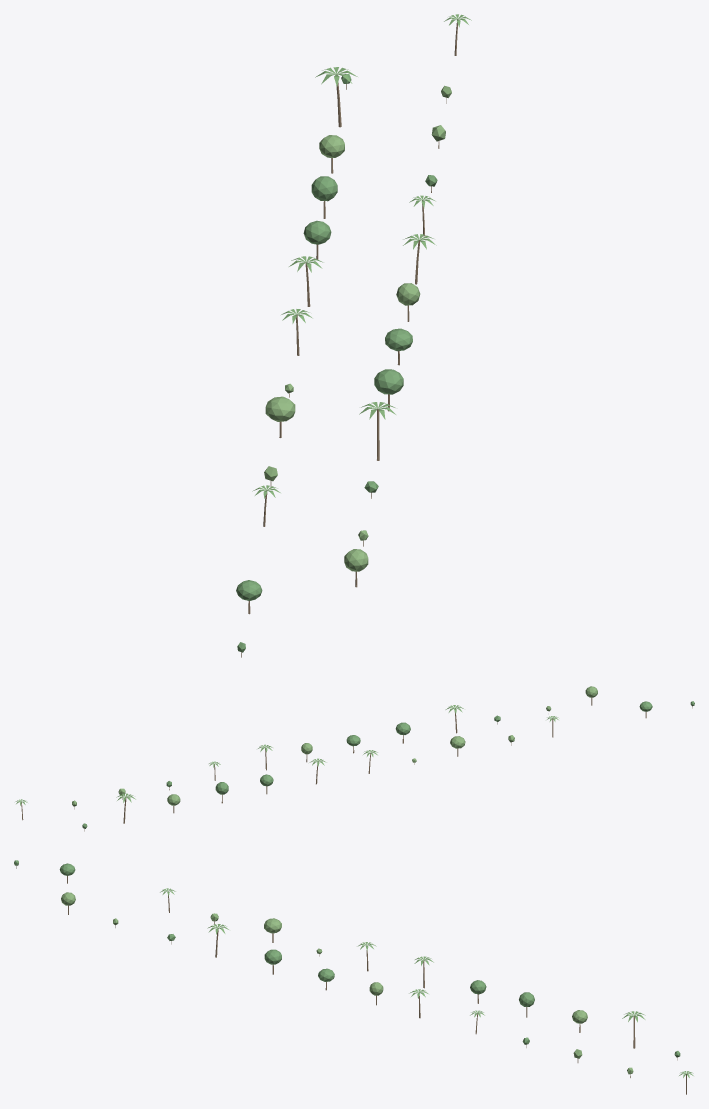
File: nature_-3_-8.glb
The picture shows the model from 3 angles, top to bottom: view 1: azimuth 30°, elevation 25°; view 2: azimuth 150°, elevation 25°; view 3: azimuth 270°, elevation 25°; orthographic projection. The views are drawn at different scales.
Visible parts, largest first — view 1: foliage_a, foliage_b, palm_leaf, trunk; view 2: foliage_a, foliage_b, palm_leaf, trunk; view 3: foliage_a, foliage_b, palm_leaf, trunk.
Part boxes in pixels (x1,y1,x2,y2): foliage_a: [236, 74, 437, 652]; foliage_b: [264, 85, 451, 571]; palm_leaf: [252, 14, 471, 498]; trunk: [241, 19, 457, 657]; foliage_a: [82, 701, 694, 828]; foliage_b: [72, 686, 597, 806]; palm_leaf: [15, 705, 558, 805]; trunk: [21, 697, 692, 831]; foliage_a: [14, 860, 680, 1057]; foliage_b: [61, 892, 633, 1074]; palm_leaf: [160, 888, 693, 1077]; trunk: [16, 866, 686, 1094].
Bounding box in the file's own units: 131 × 8.76 × 163.
